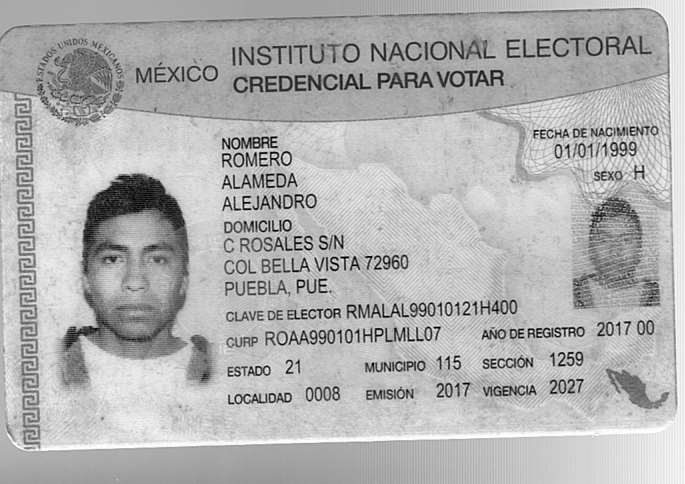ESCUDO: (36, 39, 124, 125)
MAPA: (605, 368, 670, 409)
PALABRA: (506, 36, 651, 58)
